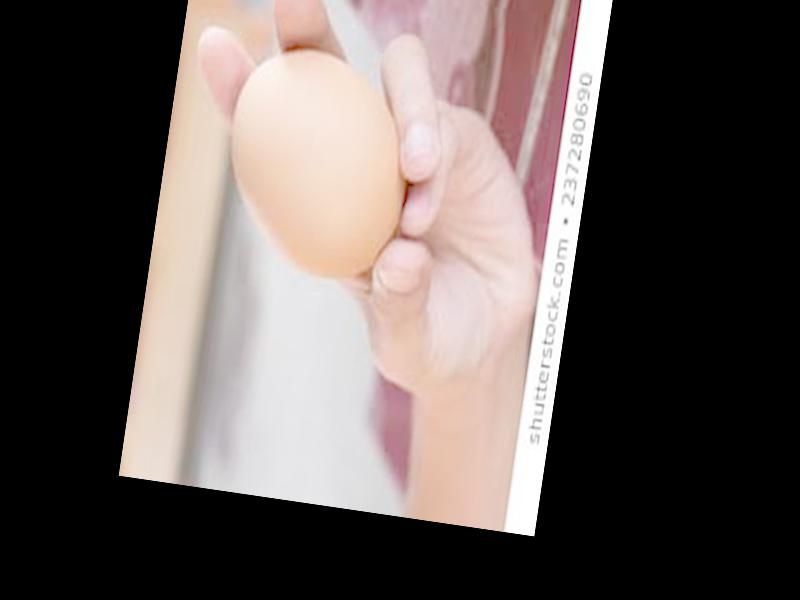Eggs: (214, 38, 421, 284)
